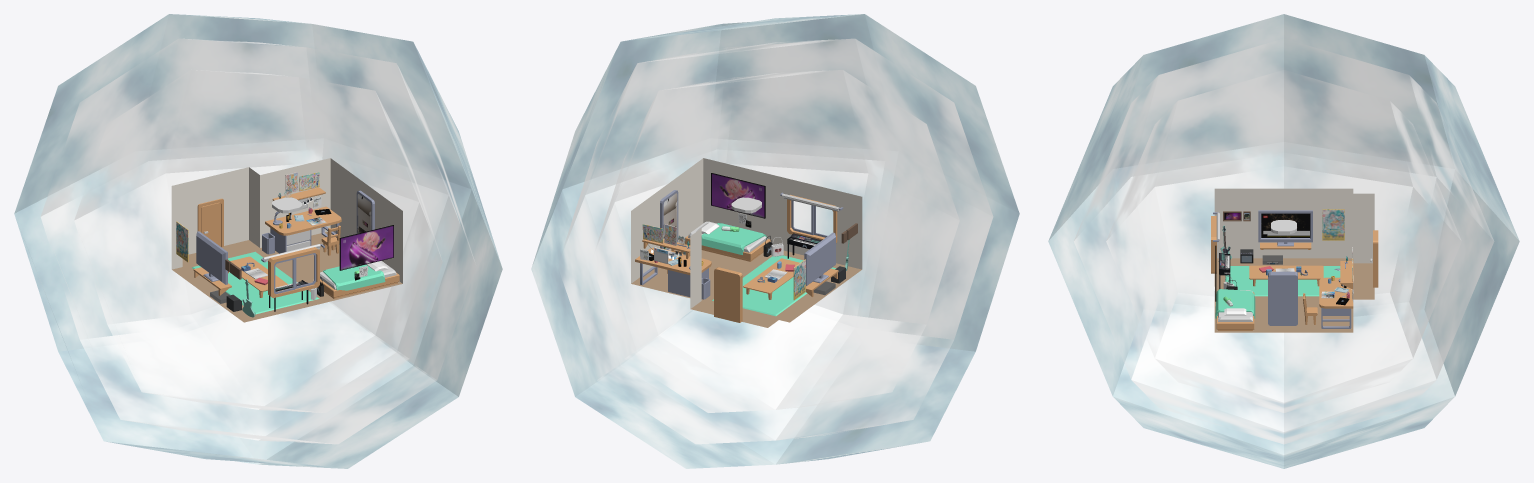
Rendered from bedroom_base_old.glb.
3 renders of one model, left to right at view 1: azimuth 30°, elevation 25°; view 2: azimuth 150°, elevation 25°; view 3: azimuth 270°, elevation 25°, orthographic. The views are drawn at different scales.
Visible parts, largest first — view 1: outer sky, colored sky, inner sky, house base, house floor, Plane.019, japanese floor mat thing, Cube.036, door, desk top, blanket, Cube.045 (+2 smaller); view 2: outer sky, colored sky, inner sky, house base, house floor, japanese floor mat thing, Plane.019, door, blanket, Cube.036, Cube.028, desk top (+1 smaller); view 3: outer sky, colored sky, inner sky, house base, house floor, mirror square base, japanese floor mat thing, Plane.030, blanket, Plane.028, desk top, Cube.028 (+1 smaller).
Boxes of the visible parts, x1,y1,x2,y2 form: outer sky: (14, 14, 502, 468); colored sky: (40, 38, 476, 444); inner sky: (74, 70, 442, 412); house base: (171, 158, 402, 283); house floor: (172, 231, 402, 322); Plane.019: (339, 225, 393, 270); japanese floor mat thing: (192, 251, 319, 314); Cube.036: (196, 231, 227, 284); door: (197, 198, 223, 247); desk top: (265, 206, 341, 235); blanket: (323, 264, 385, 290); Cube.045: (268, 247, 319, 298); outer sky: (531, 14, 1019, 468); colored sky: (562, 38, 993, 444); inner sky: (595, 70, 959, 412); house base: (631, 158, 862, 308); house floor: (631, 250, 861, 327); japanese floor mat thing: (712, 255, 835, 316); Plane.019: (711, 173, 765, 218); door: (714, 267, 742, 322); blanket: (701, 223, 766, 254); Cube.036: (804, 232, 835, 285); Cube.028: (743, 258, 799, 293); desk top: (635, 247, 711, 274); outer sky: (1048, 14, 1519, 468); colored sky: (1073, 40, 1494, 444); inner sky: (1106, 71, 1461, 412); house base: (1214, 188, 1374, 263); house floor: (1214, 258, 1374, 332); mirror square base: (1268, 271, 1297, 325); japanese floor mat thing: (1225, 266, 1340, 296); Plane.030: (1261, 213, 1309, 237); blanket: (1215, 289, 1255, 318); Plane.028: (1322, 209, 1344, 240); desk top: (1319, 277, 1353, 308); Cube.028: (1249, 265, 1323, 279).
Bounding box in the file's own units: 15.31 × 15.31 × 15.31.
55 materials, 32 textured.
